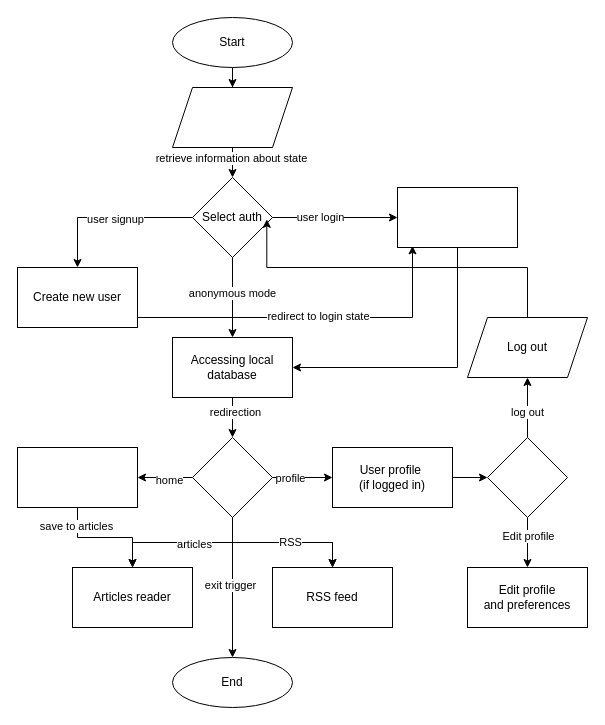
Image size: 605x725. Some labels were removed from this diagram. Each missing label, with the box of its shape:
Bookmarks manager: (16, 446, 138, 508)
Data synchronization: (396, 186, 518, 248)
Enters the app and reads current state: (172, 86, 292, 148)
Manages Profile: (486, 436, 568, 518)
navigation: (192, 436, 272, 518)
